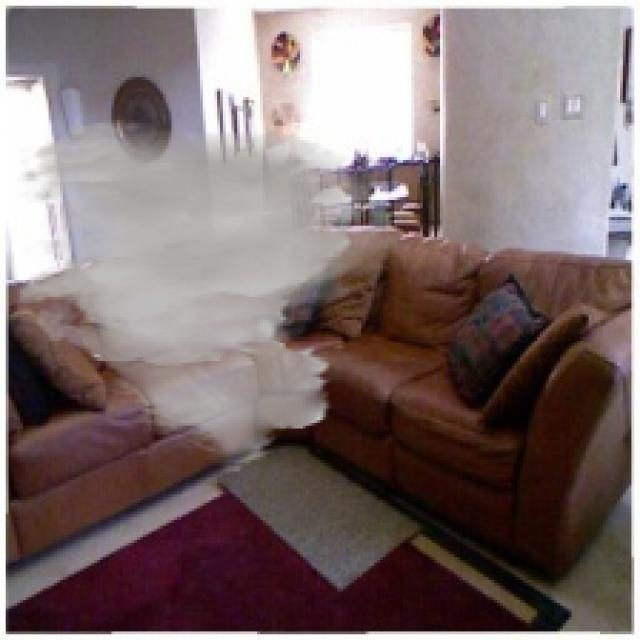Smoke: (14, 120, 417, 474)
